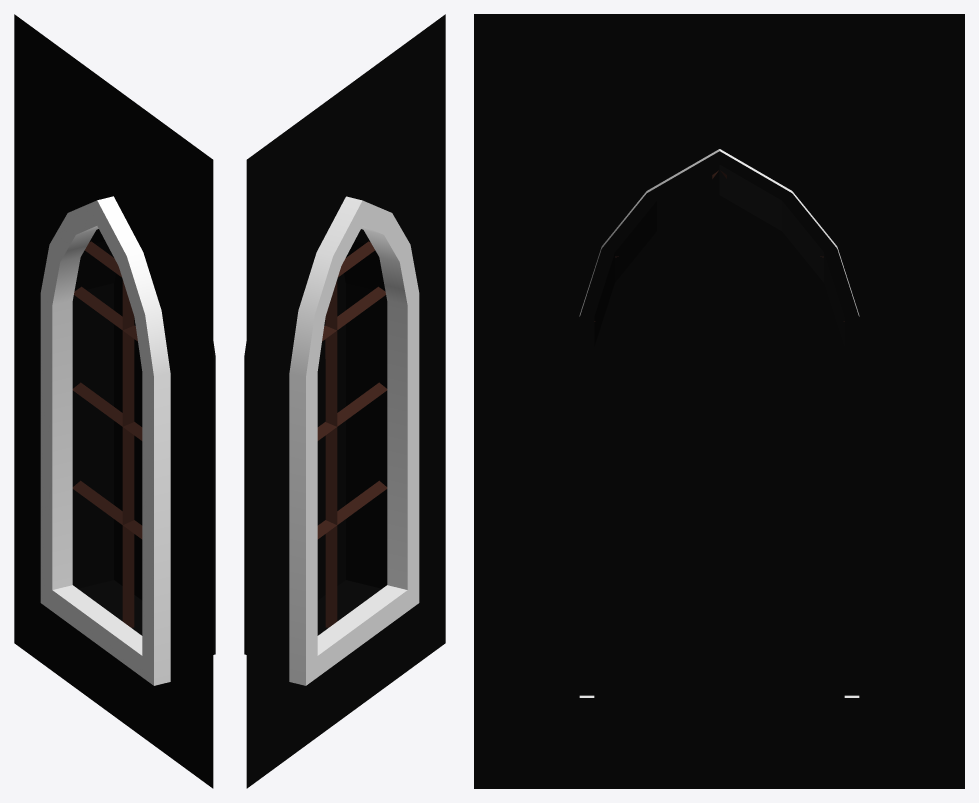
File: standard_window_16.FBX
The picture shows the model from 3 angles, left to right: view 1: azimuth 30°, elevation 25°; view 2: azimuth 150°, elevation 25°; view 3: azimuth 270°, elevation 25°; orthographic projection. The views are drawn at different scales.
Visible parts, largest first — view 1: standard_window_16; view 2: standard_window_16; view 3: standard_window_16.
Boxes of the visible parts, <box> form: standard_window_16: <box>14,14,215,788</box>; standard_window_16: <box>244,14,445,788</box>; standard_window_16: <box>474,14,964,788</box>.
Size of the model in its own units: 21.81 by 194 by 111.
